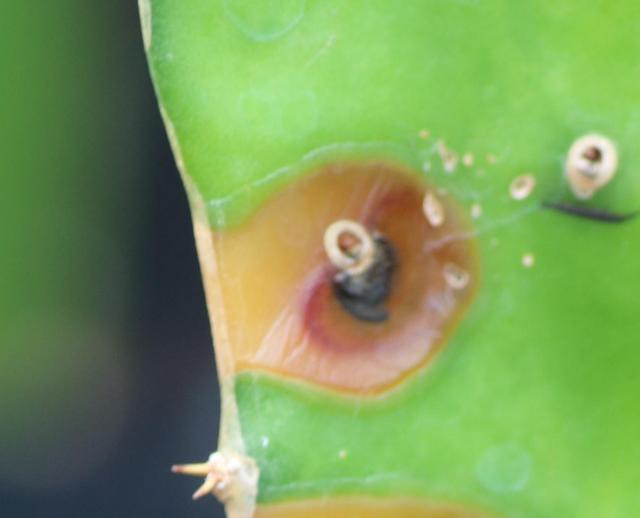stemcanker: (201, 144, 498, 404)
